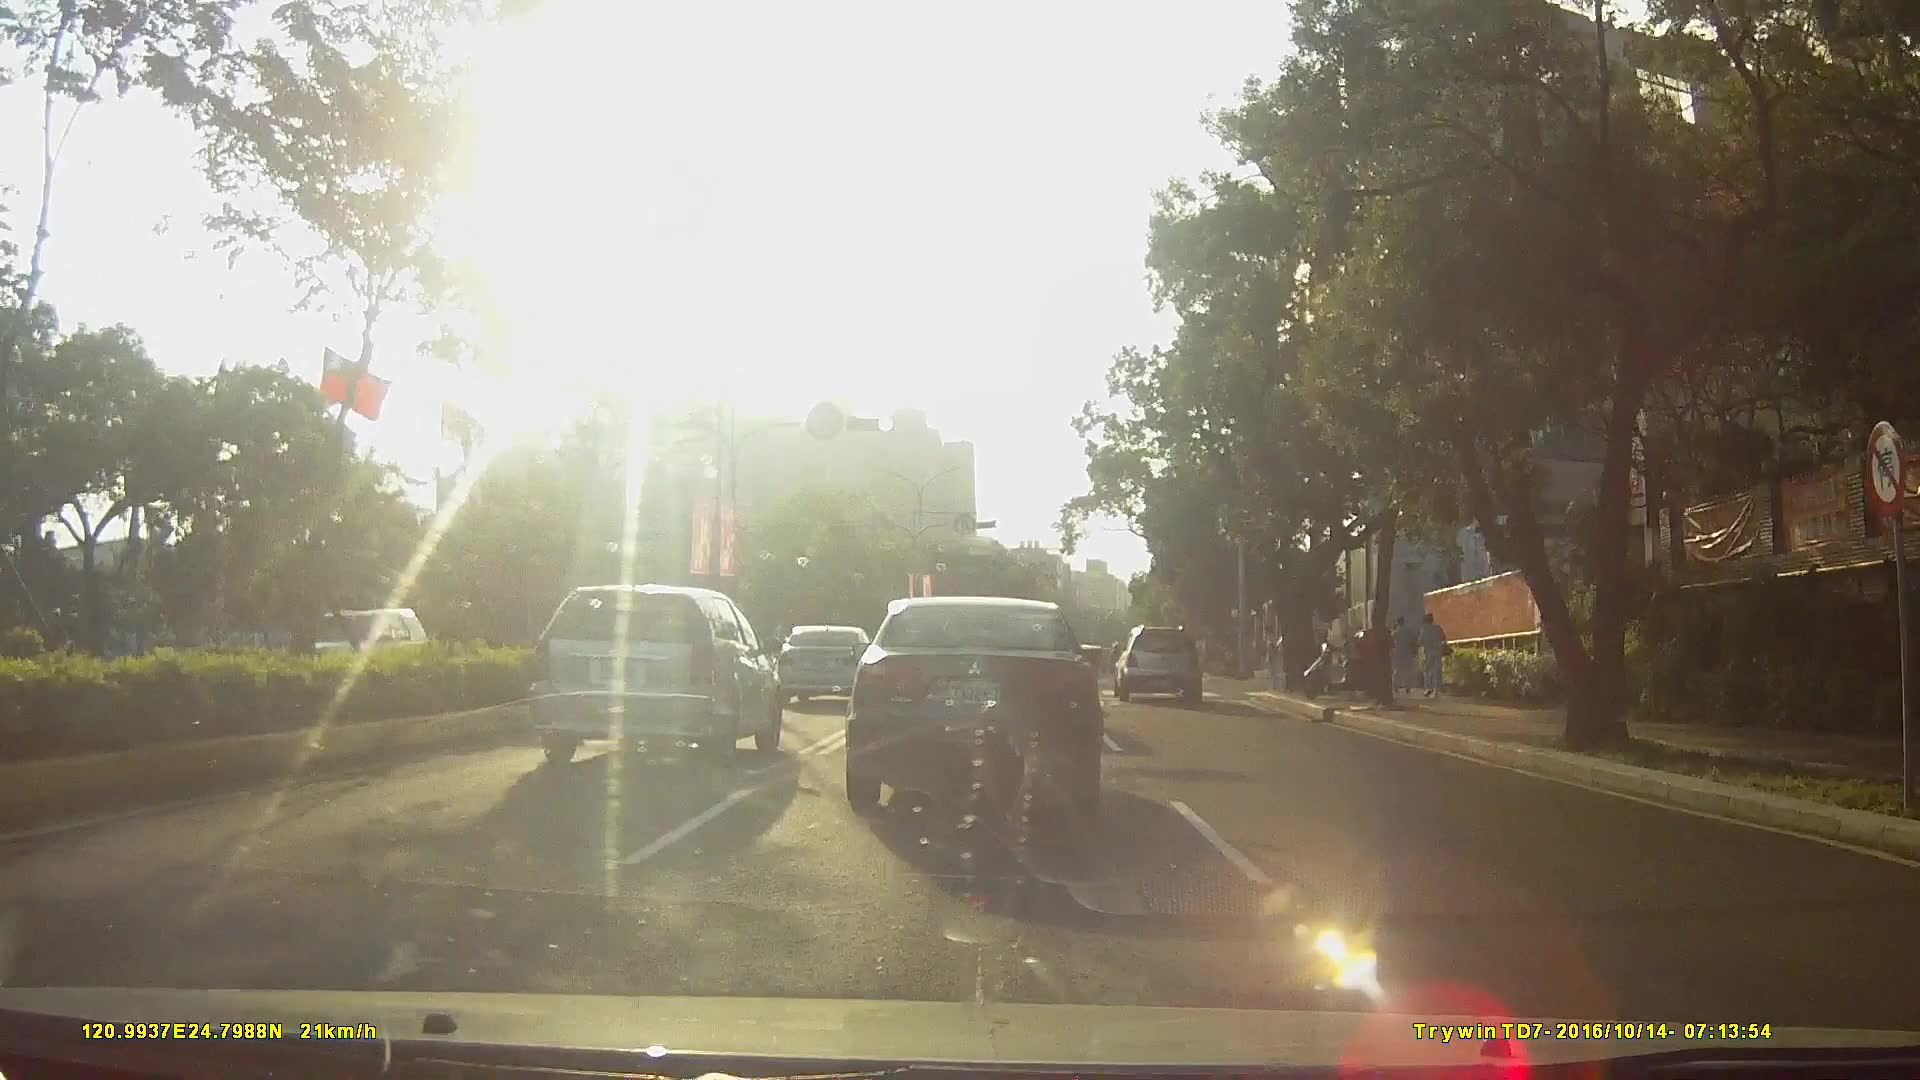pedestrian: (1416, 617, 1453, 706), (1393, 616, 1418, 694)
vehicle: (840, 596, 1104, 823), (523, 584, 782, 769), (290, 608, 438, 706), (774, 626, 876, 716), (1110, 623, 1211, 706)
